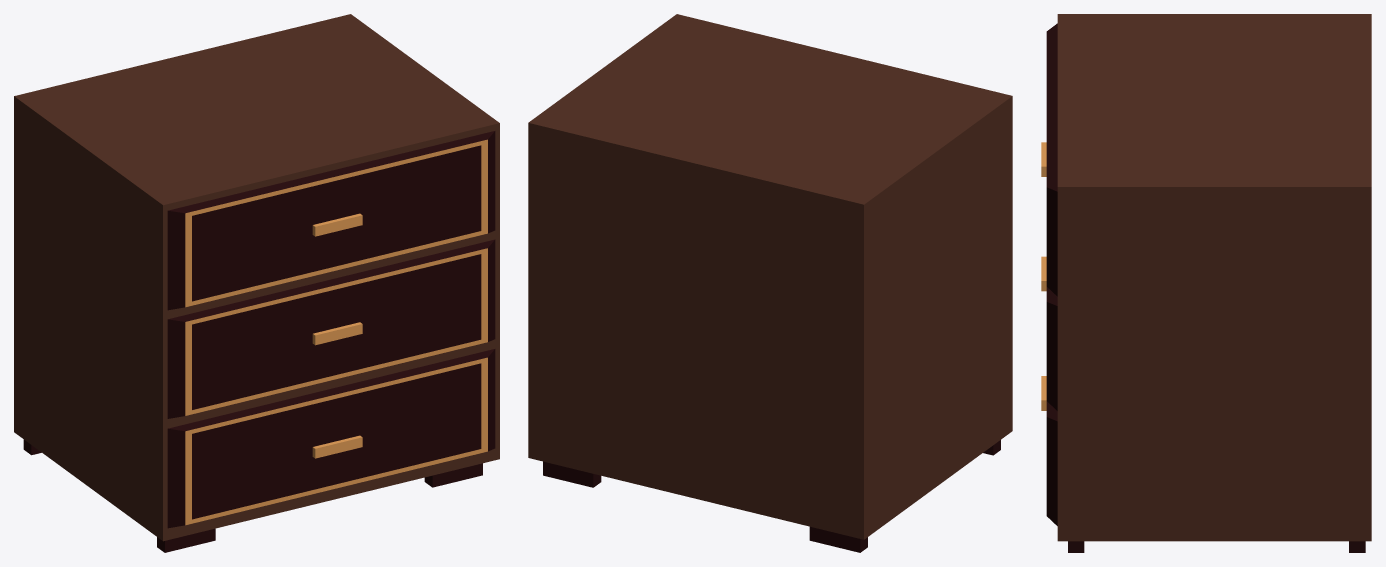
File: Beistelltisch.fbx
3 views of the same model, side by side, from view 1: azimuth 30°, elevation 25°; view 2: azimuth 150°, elevation 25°; view 3: azimuth 270°, elevation 25° (orthographic). The views are drawn at different scales.
Parts seen in each view (by area): view 1: Beistelltisch; view 2: Beistelltisch; view 3: Beistelltisch.
Boxes of the visible parts, x1,y1,x2,y2 form: Beistelltisch: (14,14,499,552); Beistelltisch: (528,14,1012,552); Beistelltisch: (1041,14,1371,552).
Bounding box in the file's own units: 77.01 × 77.13 × 62.06.
